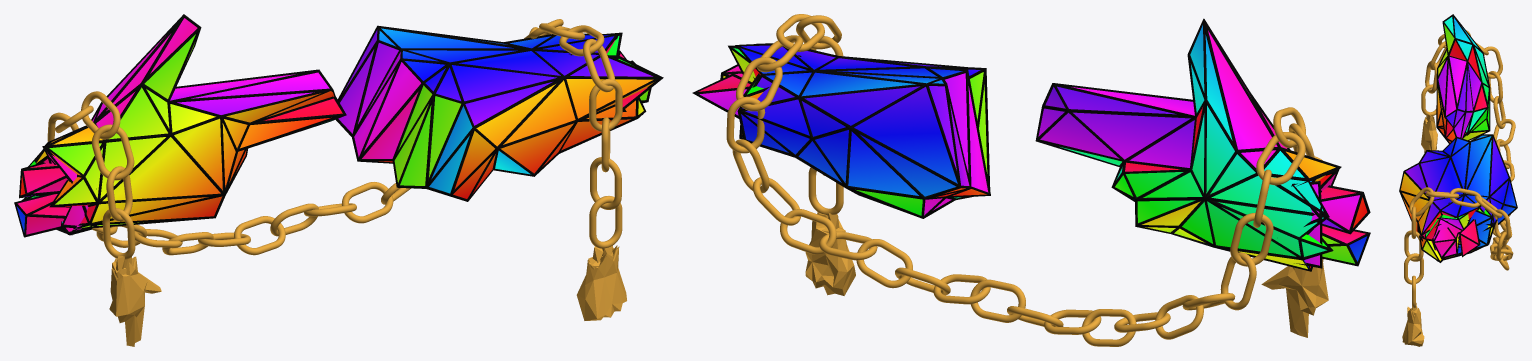
3 renders of one model, left to right at view 1: azimuth 30°, elevation 25°; view 2: azimuth 150°, elevation 25°; view 3: azimuth 270°, elevation 25°, orthographic. The views are drawn at different scales.
Visible parts, largest first — view 1: RTJ4_hands_highRes_0, RTJ4_hands_highRes.001_1, Torus_2, RTJ4_hands_highRes.002_7; view 2: RTJ4_hands_highRes_0, RTJ4_hands_highRes.001_1, Torus_2, RTJ4_hands_highRes.002_7; view 3: RTJ4_hands_highRes_0, RTJ4_hands_highRes.001_1, Torus_2, RTJ4_hands_highRes.002_7.
Boxes of the visible parts, box(x1,y1,x2,y2) form: RTJ4_hands_highRes_0: box(16, 18, 653, 234); RTJ4_hands_highRes.001_1: box(14, 14, 663, 237); Torus_2: box(47, 19, 622, 259); RTJ4_hands_highRes.002_7: box(109, 245, 626, 346); RTJ4_hands_highRes_0: box(698, 25, 1367, 269); RTJ4_hands_highRes.001_1: box(692, 18, 1370, 271); Torus_2: box(726, 14, 1322, 346); RTJ4_hands_highRes.002_7: box(805, 212, 1328, 337); RTJ4_hands_highRes_0: box(1400, 17, 1516, 260); RTJ4_hands_highRes.001_1: box(1399, 14, 1517, 262); Torus_2: box(1404, 30, 1515, 308); RTJ4_hands_highRes.002_7: box(1402, 114, 1437, 346).
Size of the model in its own units: 3.69 by 2.12 by 1.03.
